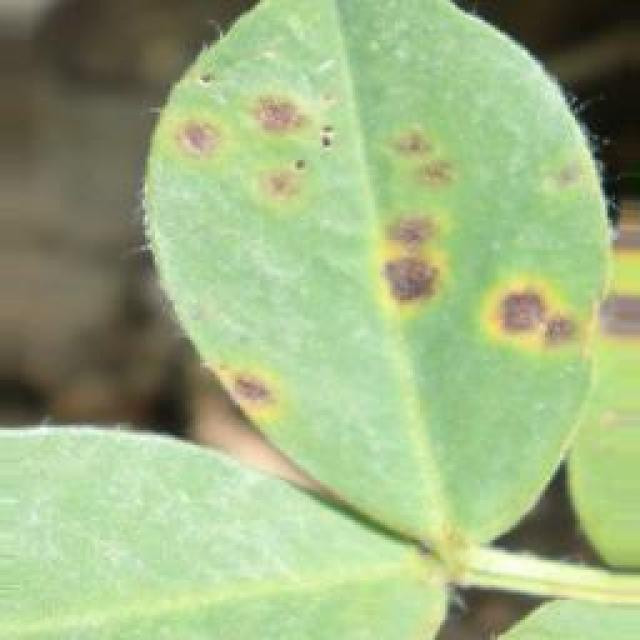Sigatoka: (206, 338, 281, 438), (235, 80, 338, 152), (375, 204, 443, 301), (467, 270, 564, 338), (244, 142, 311, 208), (584, 280, 640, 348), (163, 105, 223, 167), (400, 114, 442, 198), (554, 153, 598, 218)
